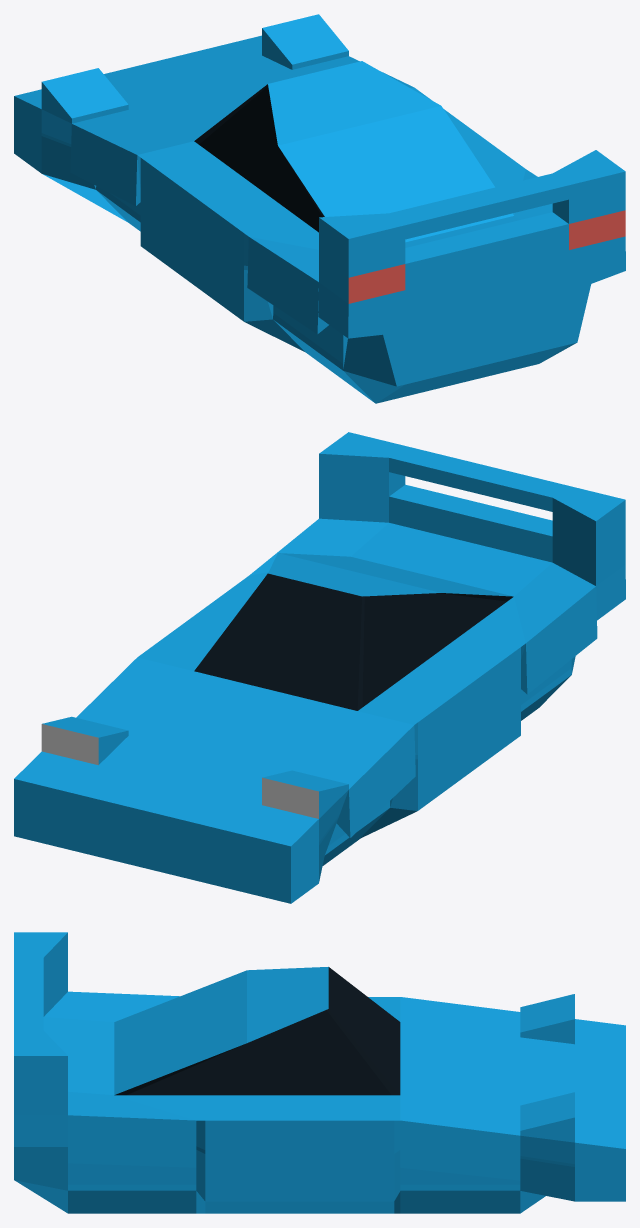
3 renders of one model, top to bottom at view 1: azimuth 30°, elevation 25°; view 2: azimuth 150°, elevation 25°; view 3: azimuth 270°, elevation 25°, orthographic. The views are drawn at different scales.
Parts seen in each view (by area): view 1: car_0002; view 2: car_0002; view 3: car_0002.
Part boxes in pixels (x1,y1,x2,y2): car_0002: (14,14,625,403); car_0002: (14,432,625,903); car_0002: (14,932,625,1213).
Size of the model in its own units: 2.67 by 1.89 by 5.54.
